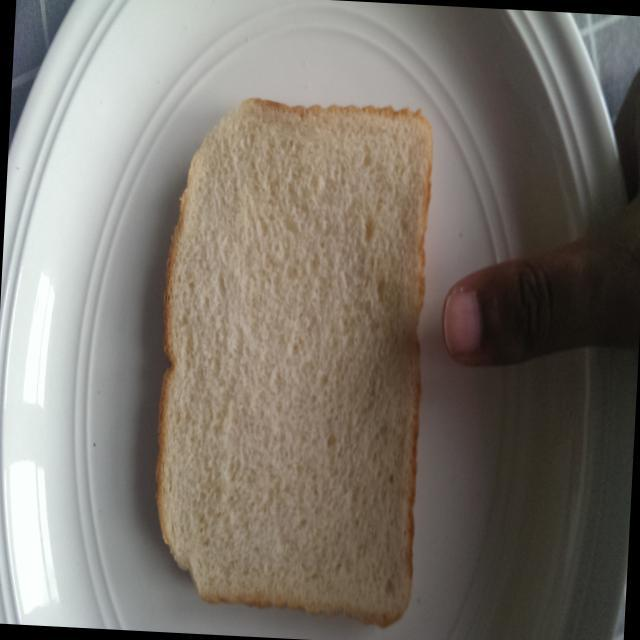Bread: (140, 82, 447, 634)
Finger: (432, 229, 567, 387)
